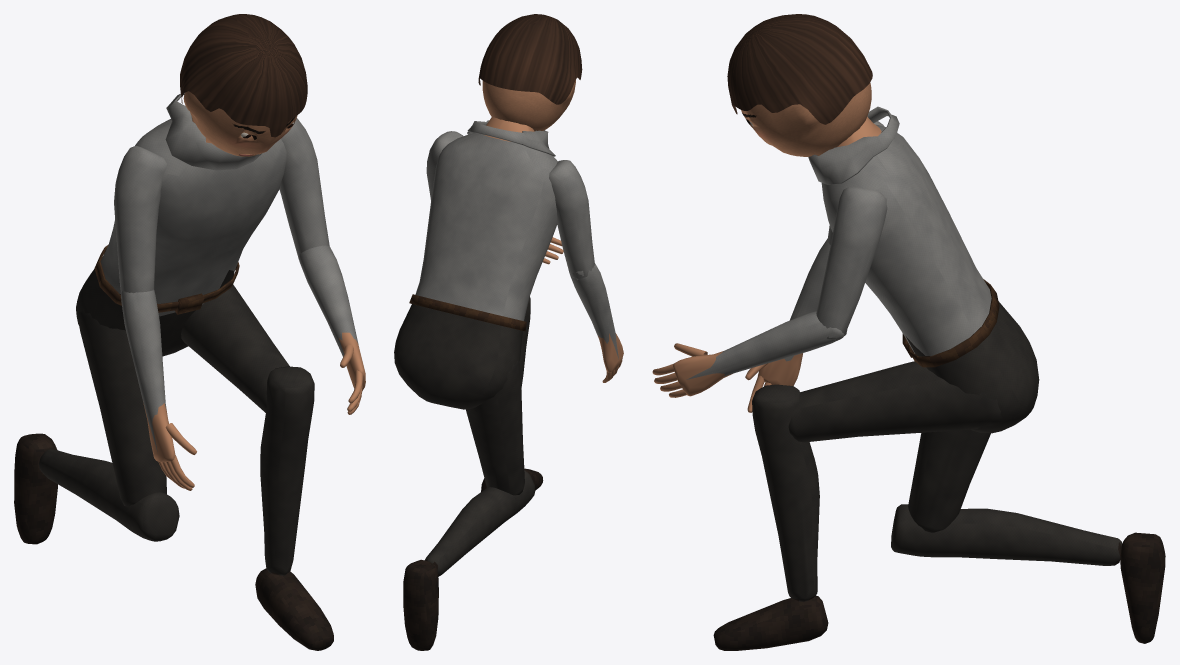
Rendered from persona_nino_agachado_medio.obj.
The picture shows the model from 3 angles, left to right: view 1: azimuth 30°, elevation 25°; view 2: azimuth 150°, elevation 25°; view 3: azimuth 270°, elevation 25°; orthographic projection. The views are drawn at different scales.
Parts seen in each view (by area): view 1: persona_nino_agachado; view 2: persona_nino_agachado; view 3: persona_nino_agachado.
Part boxes in pixels (x1,y1,x2,y2): persona_nino_agachado: [14, 14, 365, 650]; persona_nino_agachado: [394, 14, 623, 650]; persona_nino_agachado: [652, 14, 1165, 650].
Size of the model in its own units: 0.316 by 0.9548 by 0.6941.
Materials: 12 (12 with a texture image).
